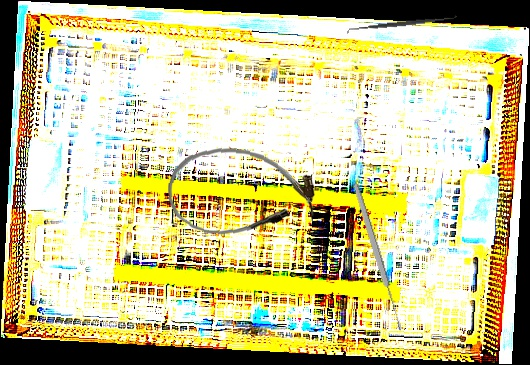Cannula: (165, 143, 318, 242)
Spatula Surgical: (345, 12, 458, 36)
Surgical Spoon: (351, 182, 405, 332)
